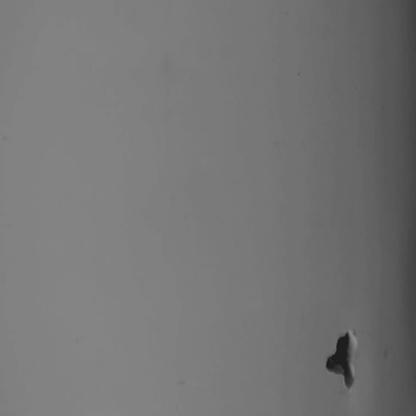kongdong: (318, 321, 365, 395)
